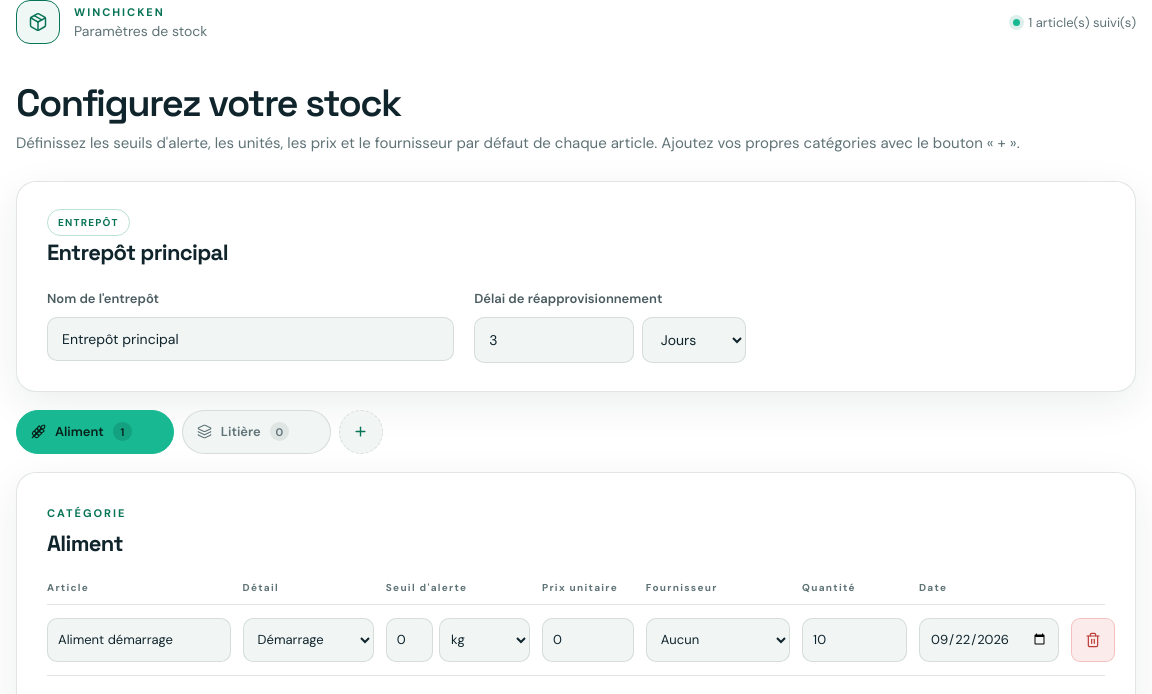
it: StockParametersForm — inline supplier creation › confirming an empty name says what is missing instead of doing nothing
This screenshot has width=1152, height=694.
Select "+ Nouveau fournisseur" in the 4th dropdown at coordinates (718, 640), box [646,618,790,662]
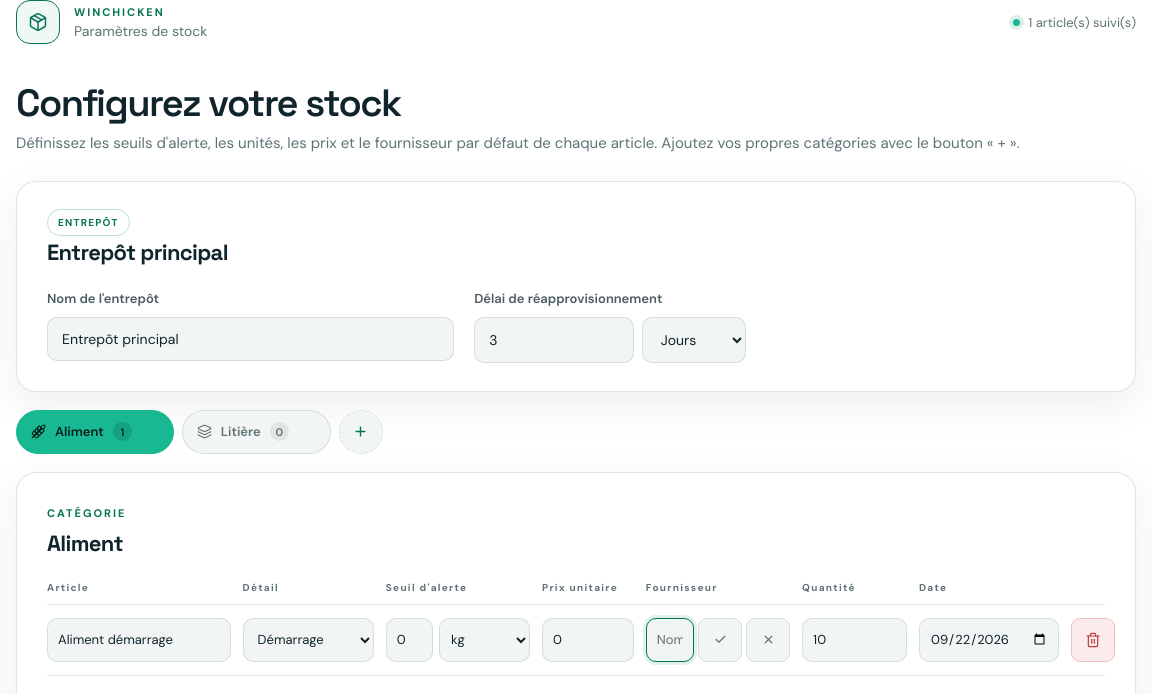
Click the button named "Confirmer".
click(720, 640)  # box [698,618,742,662]
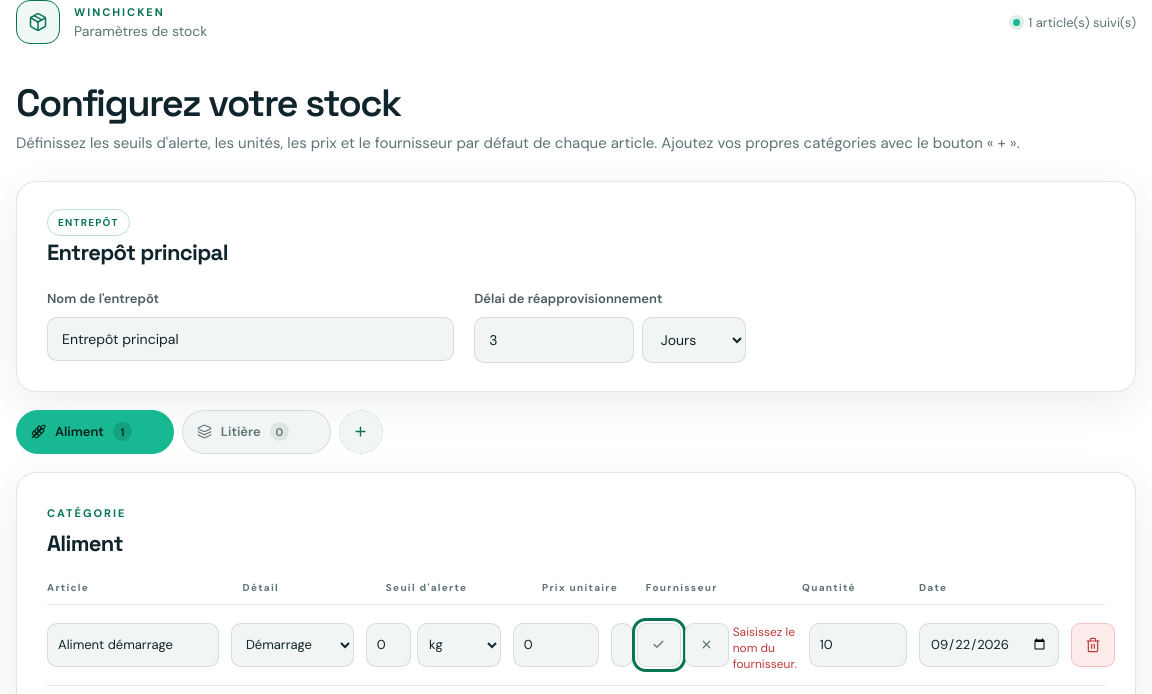
Expected: the text "Saisissez le nom du fournisseur." is shown, [733,624,797,672]
